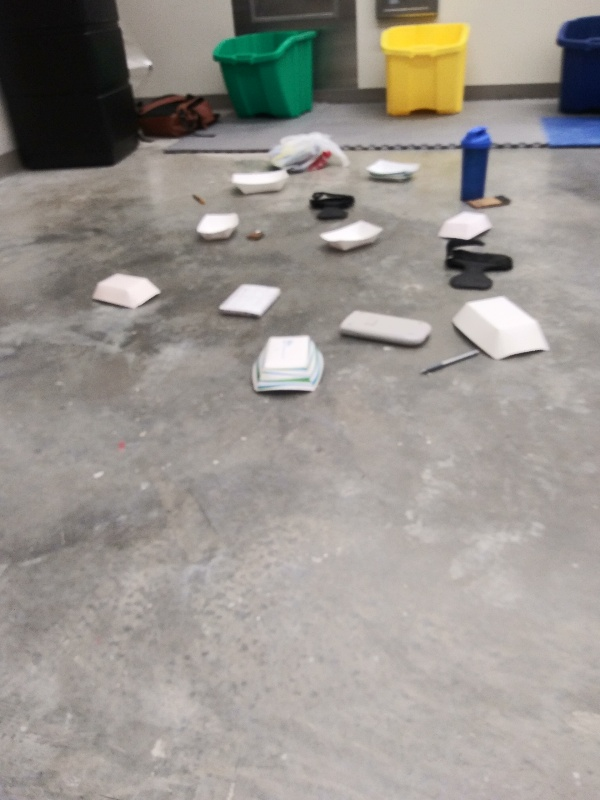plate: (446, 292, 555, 363), (248, 331, 328, 404), (88, 271, 165, 314), (316, 217, 386, 255), (432, 210, 495, 246), (229, 165, 293, 197), (192, 207, 243, 245), (363, 157, 422, 187)
